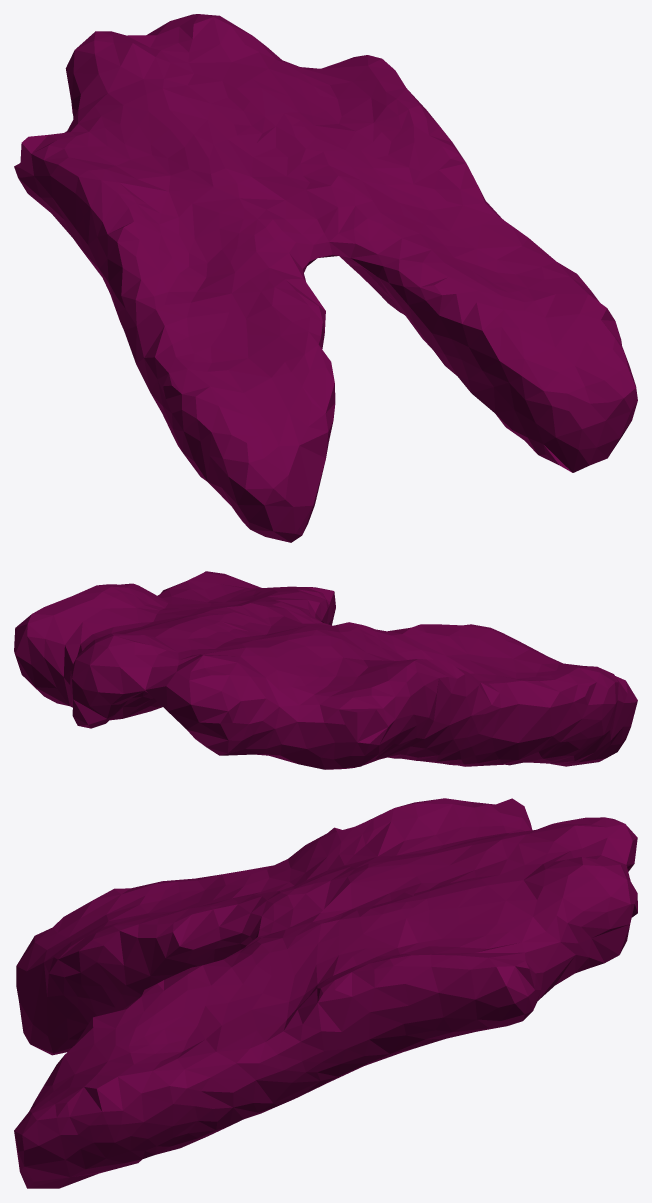
The model's file is 103-24c-area 24c of cortex-('0.4980', '0.0000', '0.3255').obj.
3 views of the same model, one above another, from view 1: azimuth 30°, elevation 25°; view 2: azimuth 150°, elevation 25°; view 3: azimuth 270°, elevation 25° (orthographic).
Size of the model in its own units: 89.77 by 55.41 by 113.
